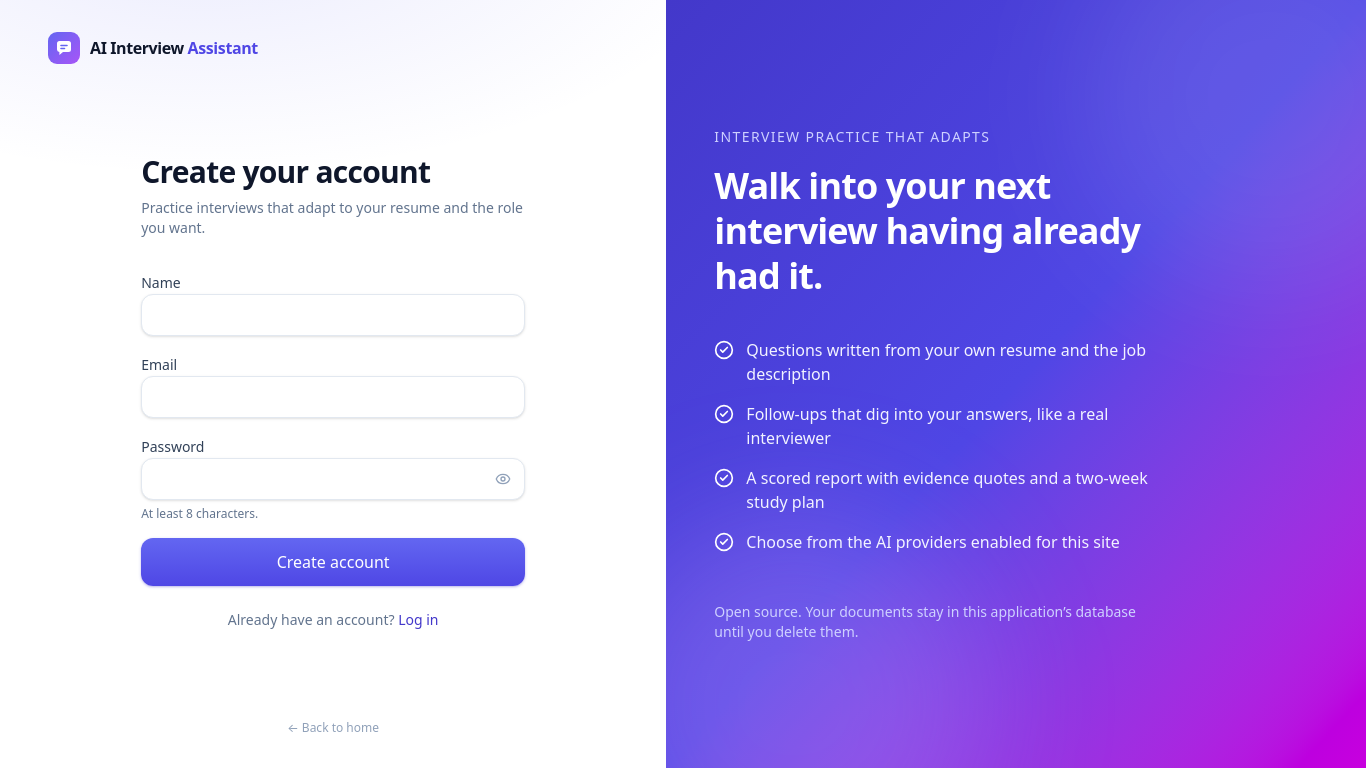
Test case: signup › creates an account and lands in the app
Type "Grace Hopper" into the field labelled "Name" at (333, 315), box [141, 294, 525, 336]
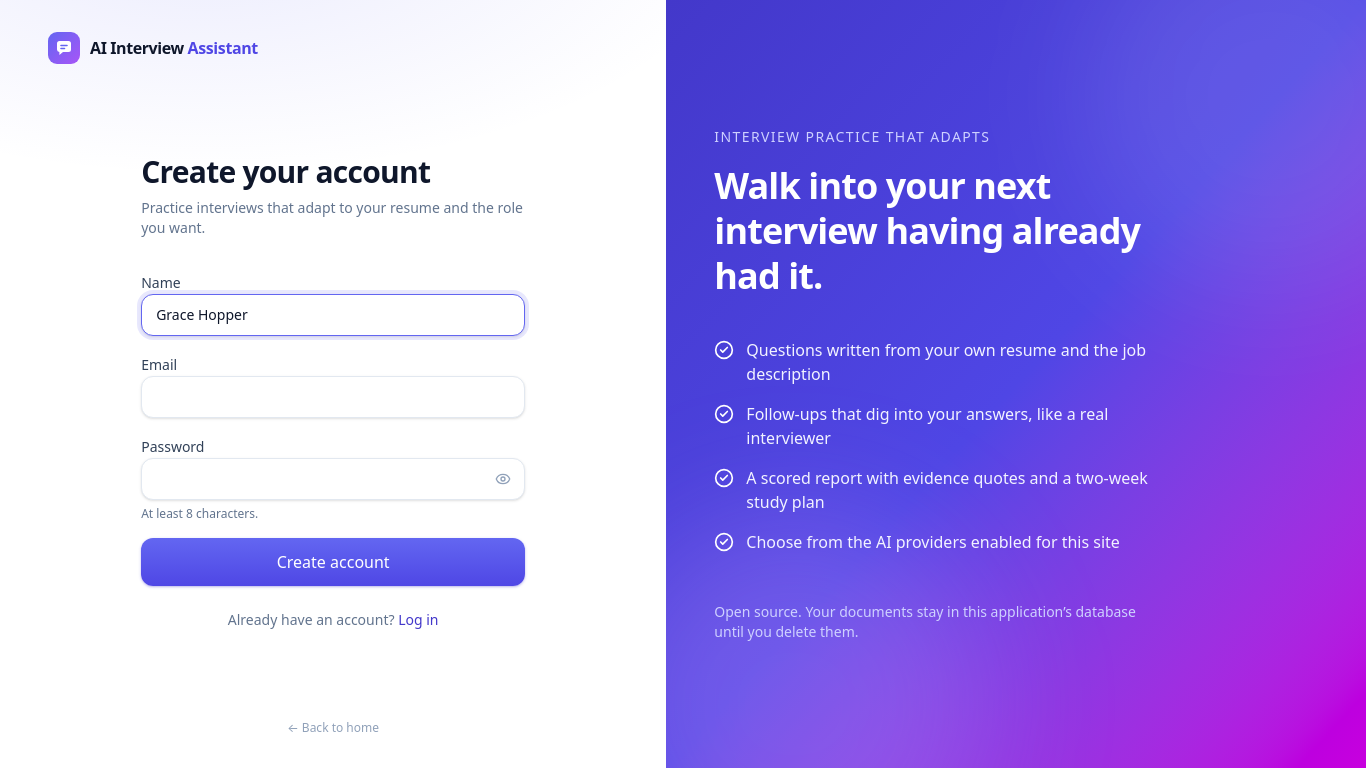
Type "grace@example.com" into the field labelled "Email" at (333, 397), box [141, 376, 525, 418]
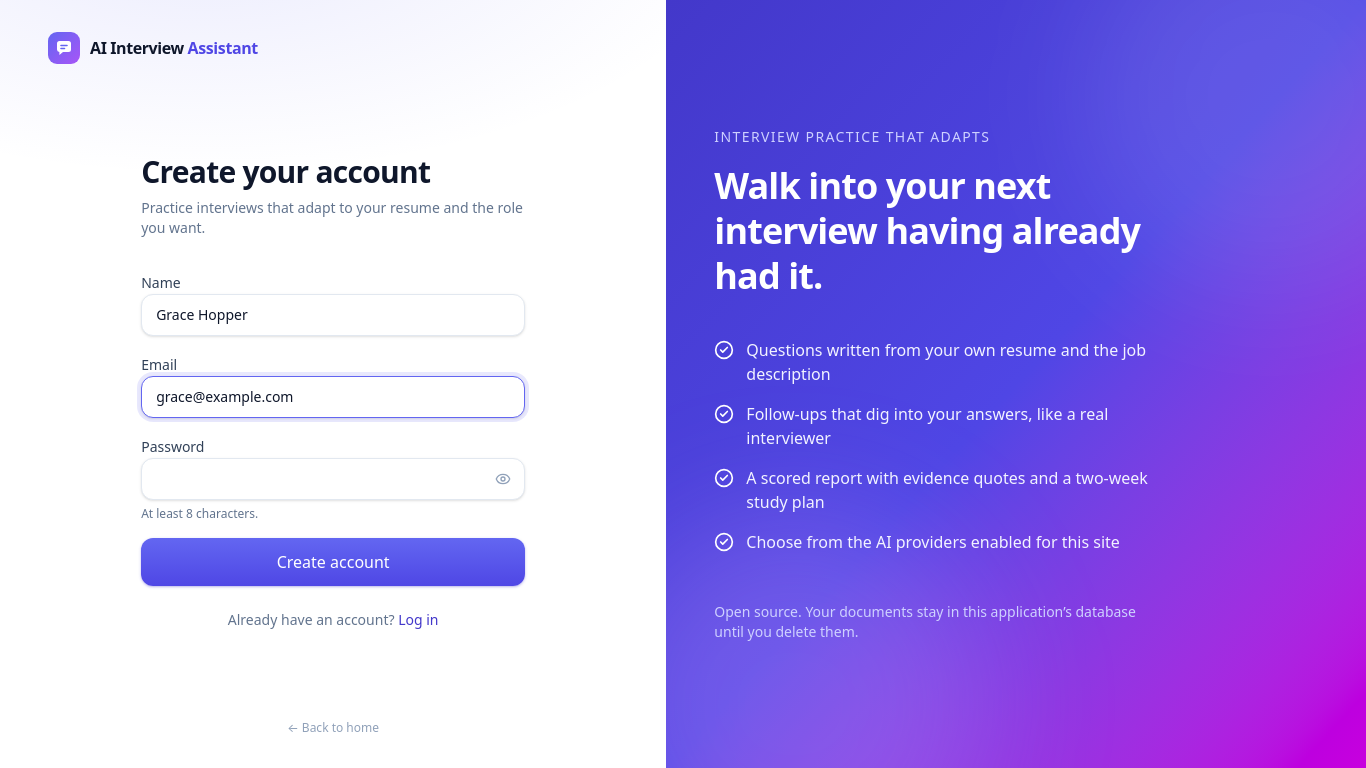
Type "eight chars+" into the password field labelled "Password" at (333, 479), box [141, 458, 525, 500]
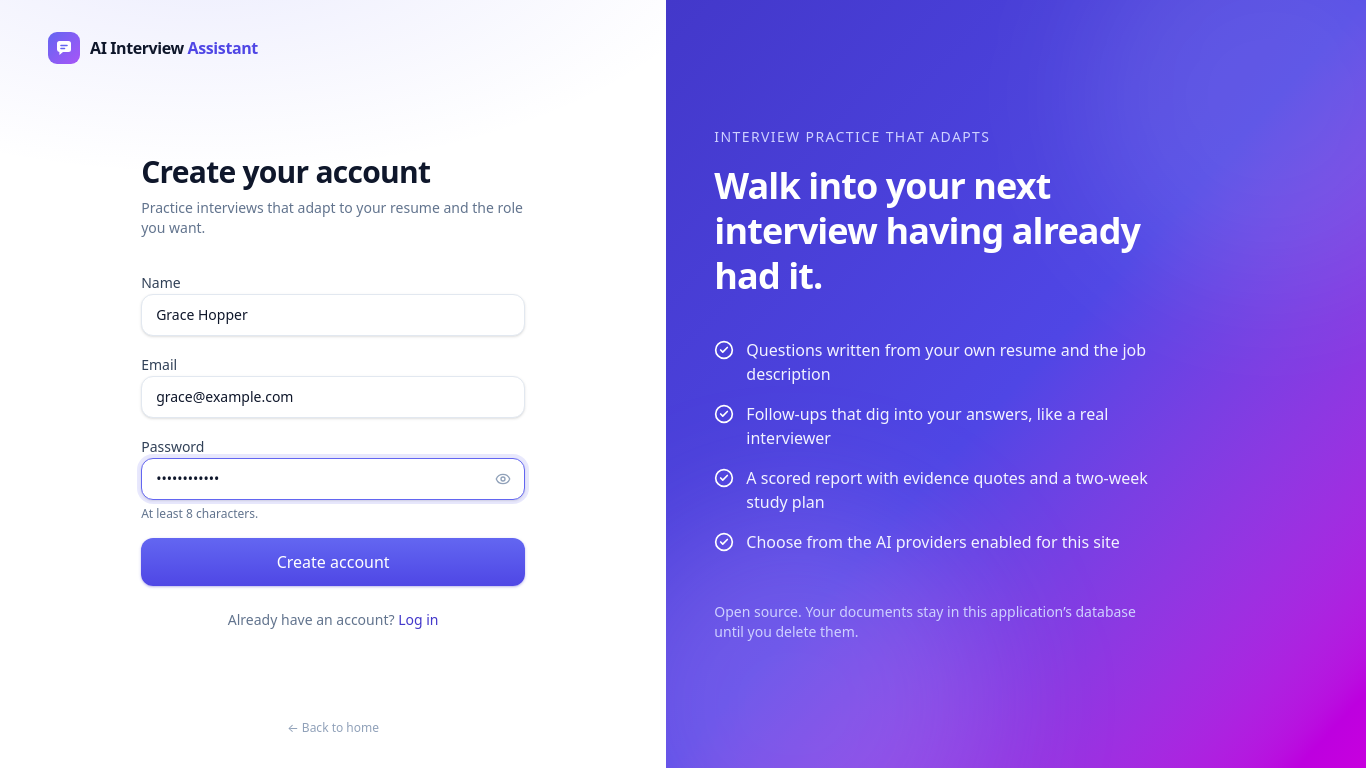
Click the button "Create account" at (333, 562), box [141, 538, 525, 586]
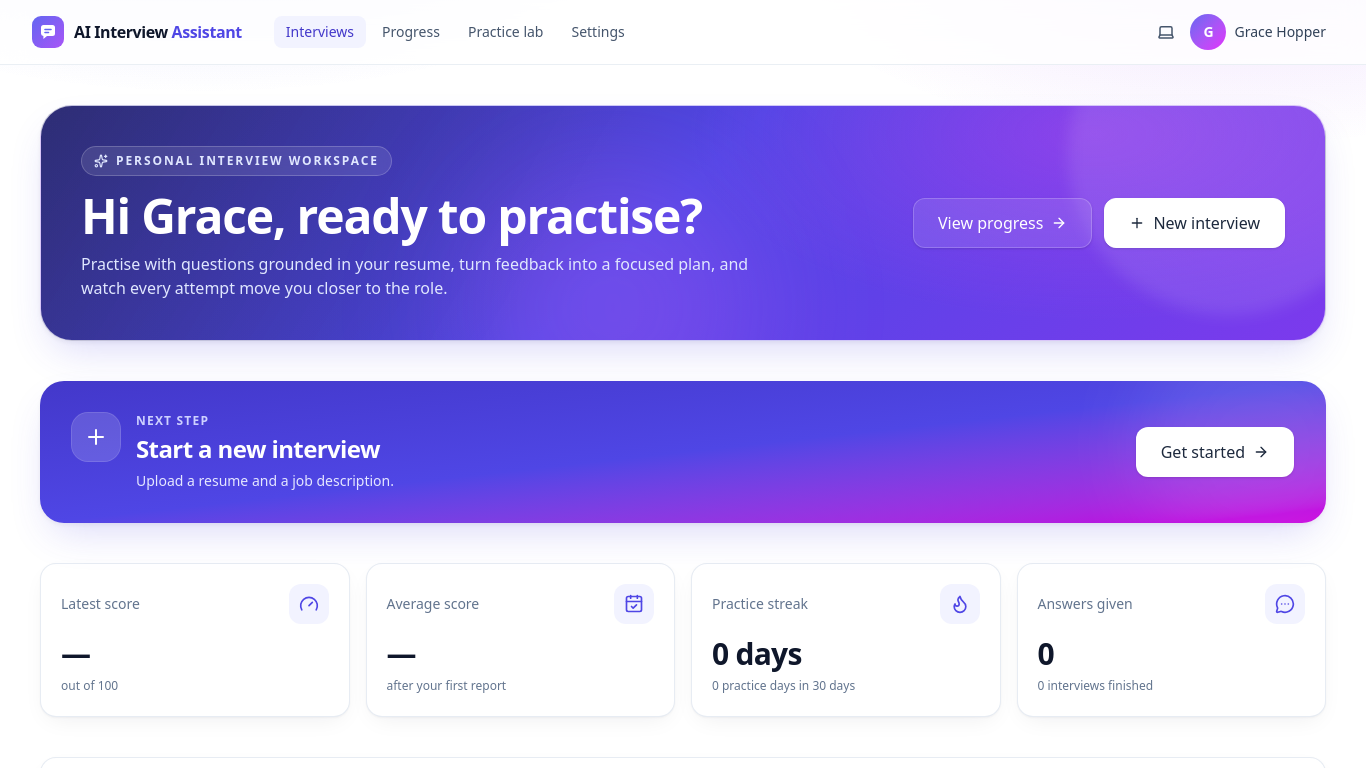
Result: the heading "Hi Grace, ready to practise?" is shown at [81, 192, 753, 240]
